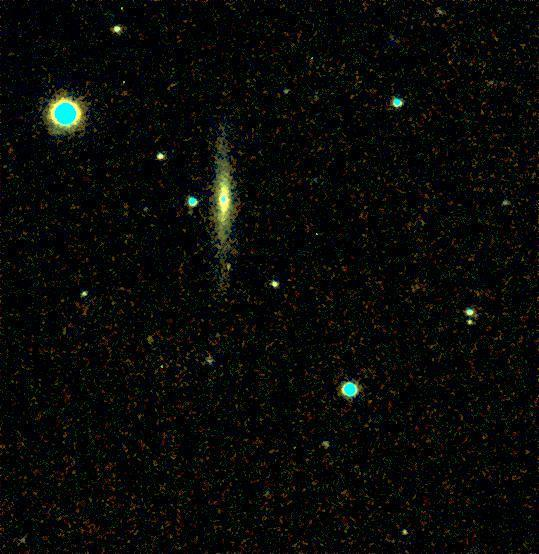star: (213, 258, 243, 288)
